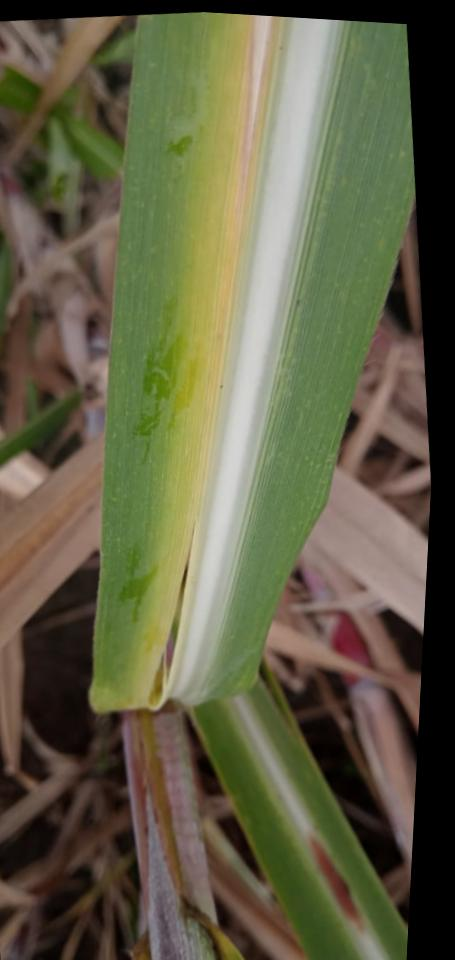RedRot: (305, 833, 368, 930)
Yellow: (131, 13, 284, 708)
